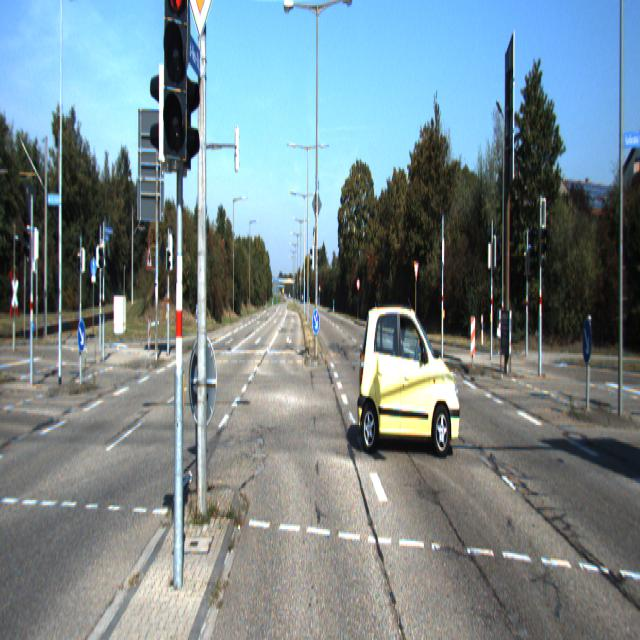Car: (358, 300, 462, 459)
